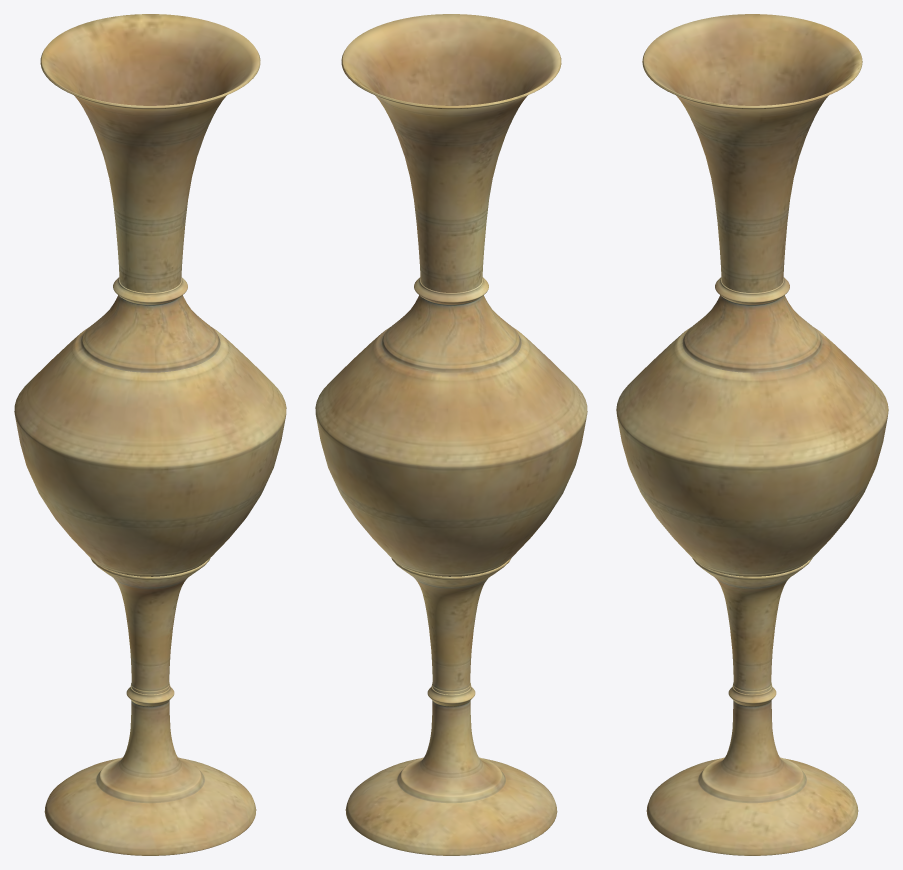
File: brass_vase_01.glb
The picture shows the model from 3 angles, left to right: view 1: azimuth 30°, elevation 25°; view 2: azimuth 150°, elevation 25°; view 3: azimuth 270°, elevation 25°; orthographic projection.
Visible parts, largest first — view 1: brass_vase_01; view 2: brass_vase_01; view 3: brass_vase_01.
Part boxes in pixels (x1,y1,x2,y2): brass_vase_01: (14,14,286,855); brass_vase_01: (315,14,587,855); brass_vase_01: (616,14,888,855).
Size of the model in its own units: 0.2273 by 0.6925 by 0.2273.
1 material, 1 textured.
